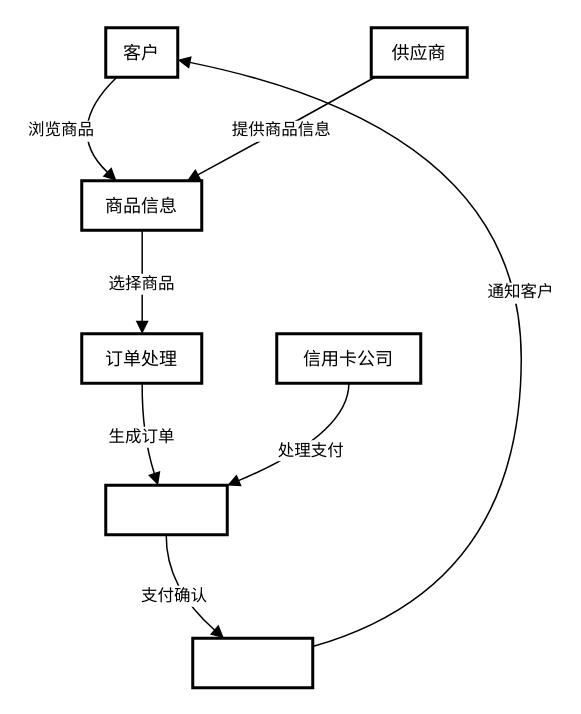
Image size: 581x714. Some labels were removed from this diagram. The centre of each missing label's shape, as x and y in pixels:
"支付处理" belongs at pixel 166 509.
"订单完成" belongs at pixel 252 662.
